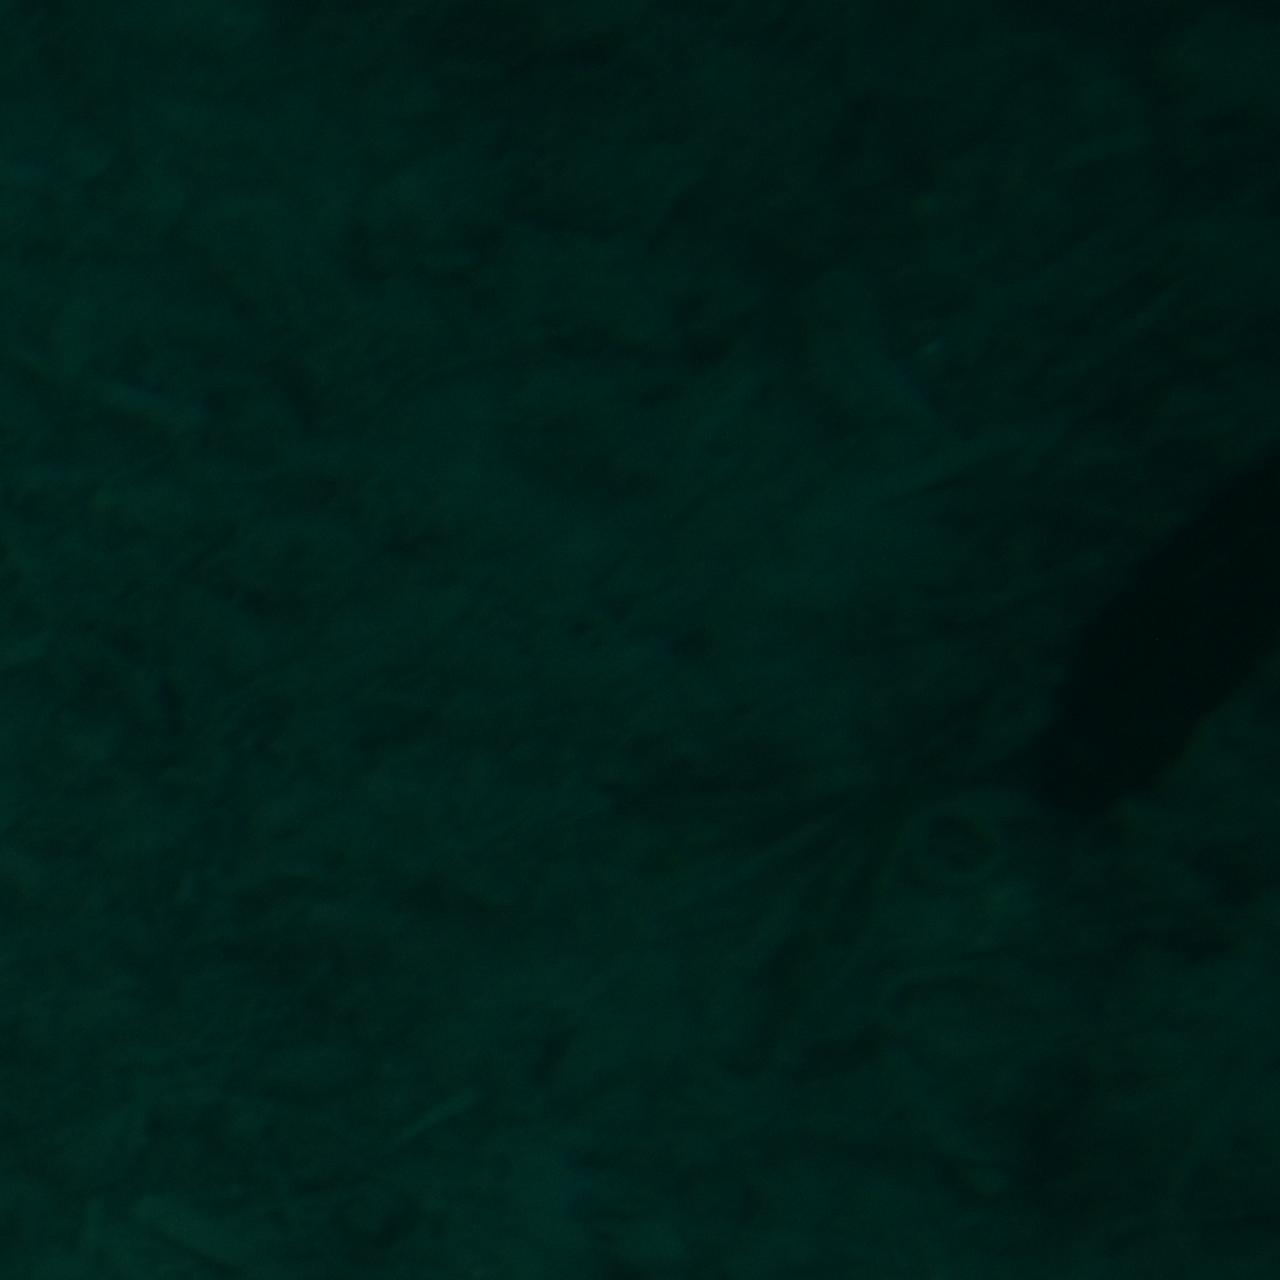Holothuria tubulosa: (996, 430, 1279, 850)
